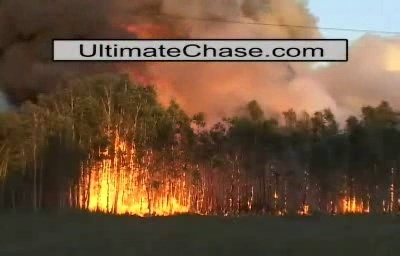fire: (77, 129, 200, 216)
